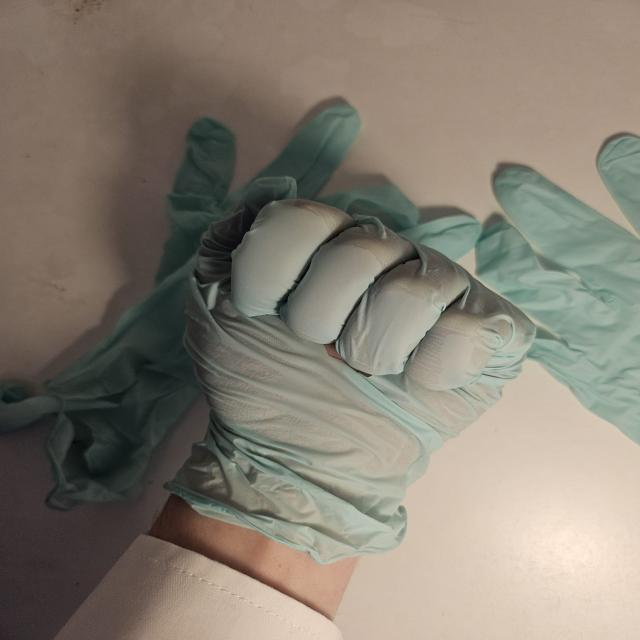gloves_damaged: (172, 167, 545, 562)
